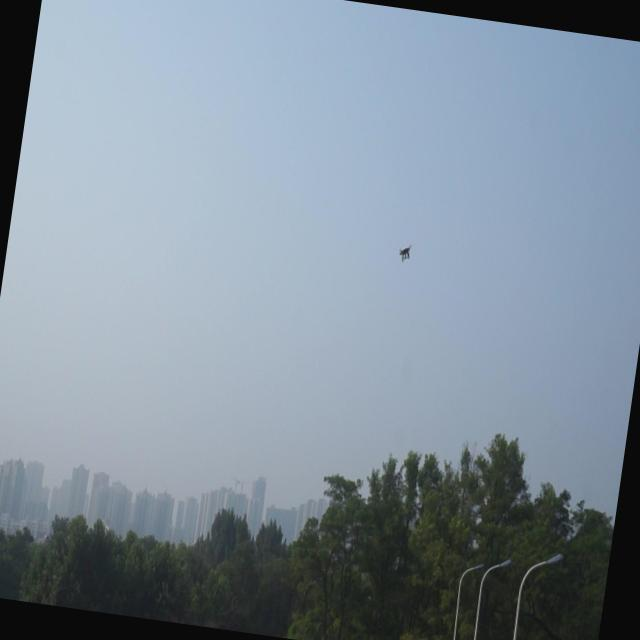drone: (396, 240, 413, 266)
